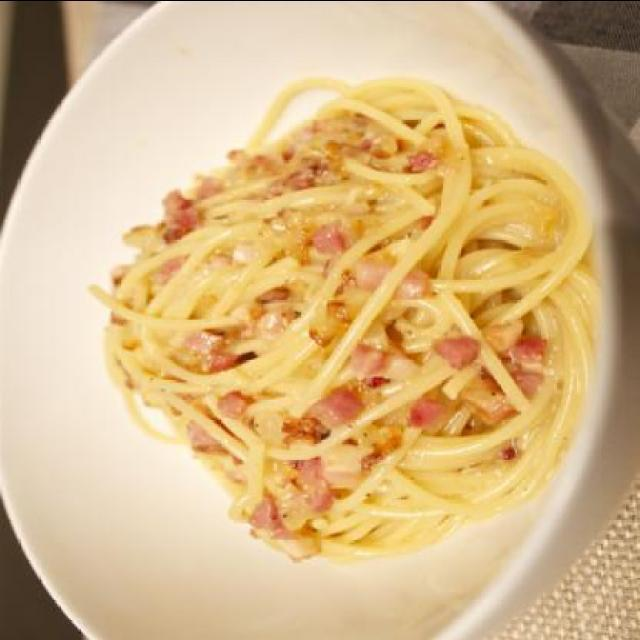Pasta with carbonara sauce: (50, 34, 613, 597)
